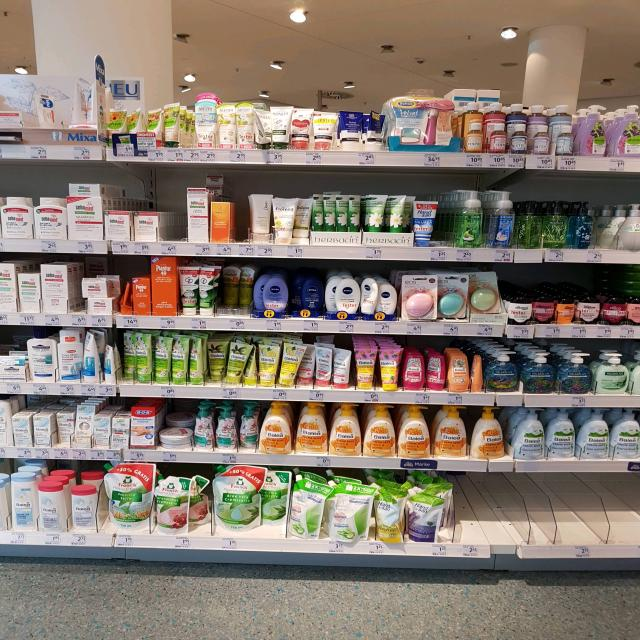empty: (460, 469, 640, 547), (155, 172, 189, 250), (231, 182, 256, 245)
